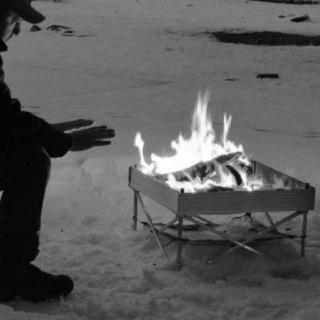Fire: (132, 80, 262, 193)
